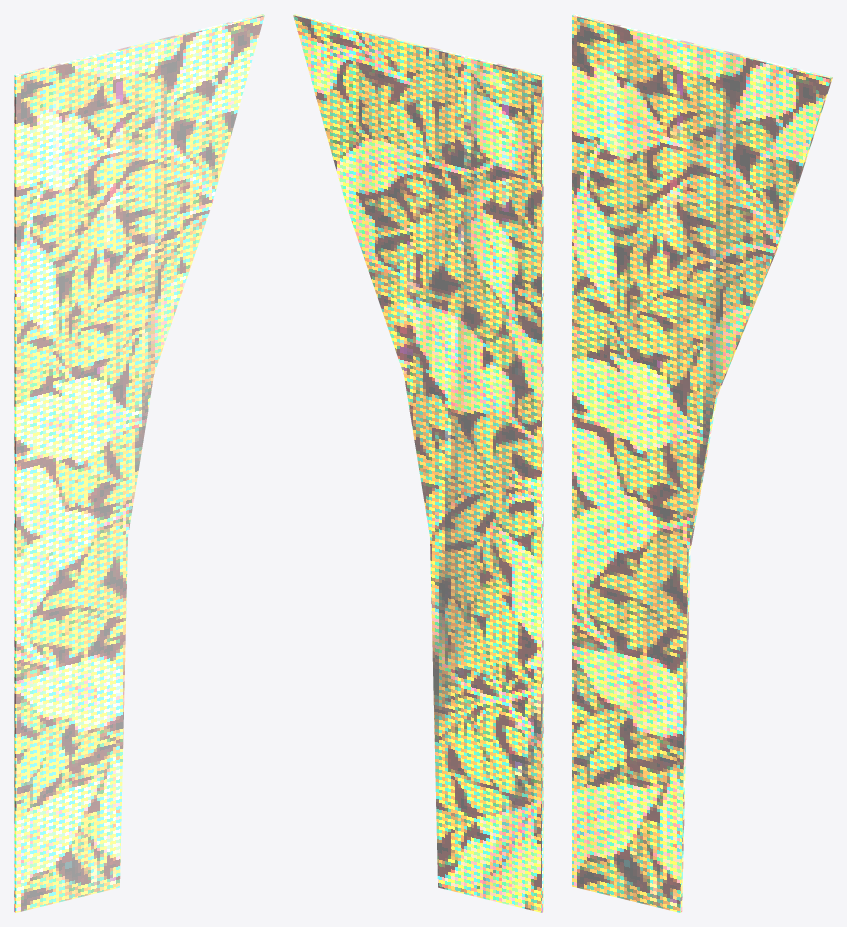
Rendered from curtain_2.glb.
3 views of the same model, side by side, from view 1: azimuth 30°, elevation 25°; view 2: azimuth 150°, elevation 25°; view 3: azimuth 330°, elevation 25° (orthographic). The views are drawn at different scales.
Parts seen in each view (by area): view 1: Curtain_2; view 2: Curtain_2; view 3: Curtain_2.
Part boxes in pixels (x1,y1,x2,y2): Curtain_2: (14, 14, 264, 912); Curtain_2: (293, 14, 543, 912); Curtain_2: (572, 14, 832, 912).
Size of the model in its own units: 1.9 by 6.09 by 0.0226.
